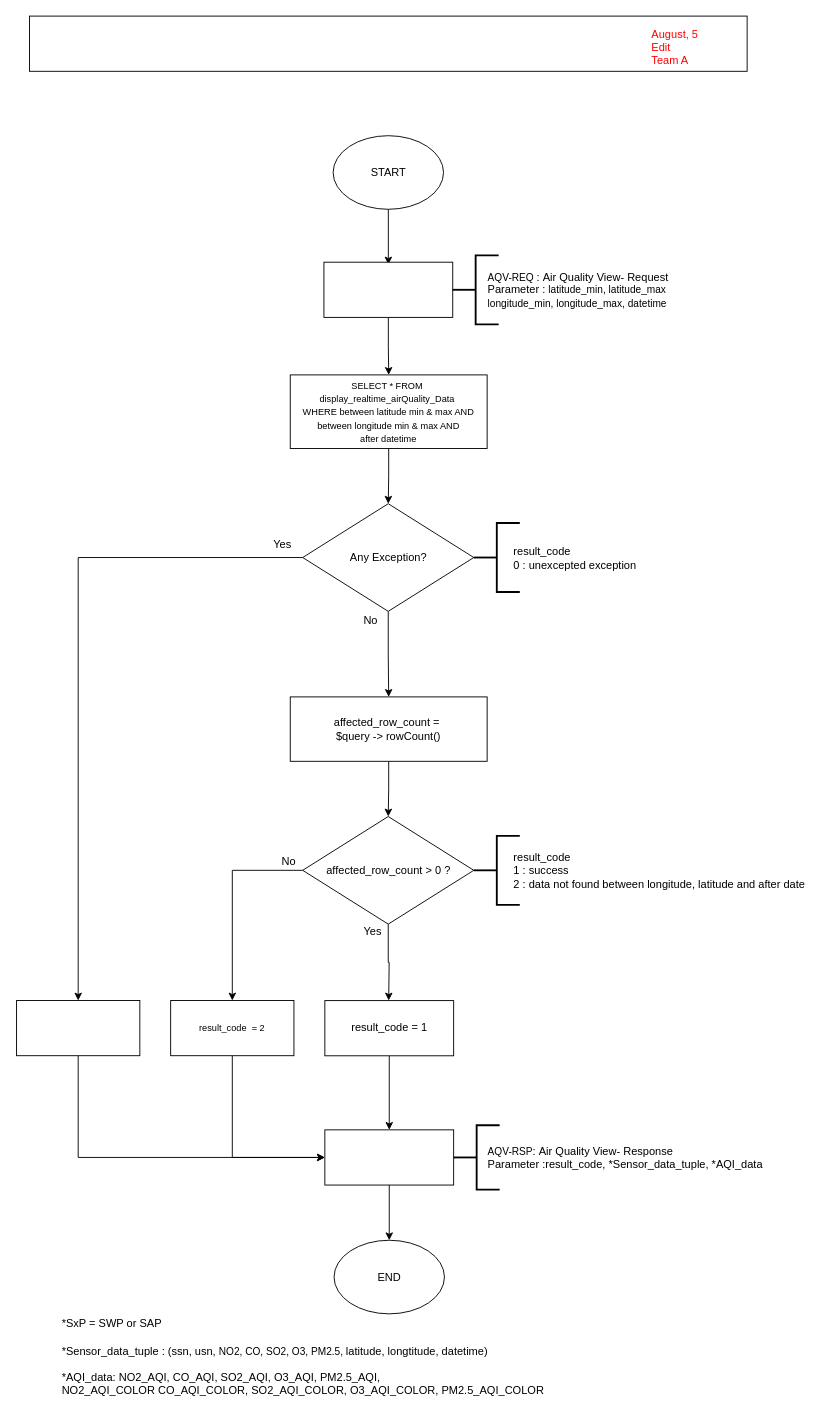
Some shapes in this 831 by 1414 pixel diagram are drawn without their labels. Here are the shapes that lost their labels. From the top down, the box of each, then its label:
(29, 15, 747, 71): Real-time air quaility data view Flowchart
(323, 261, 453, 317): Receive request from Client *SxP : AQV-REQ
(16, 1000, 140, 1056): result_code = 0
(324, 1129, 454, 1185): Response to Client *SxP : AQV -RSP
